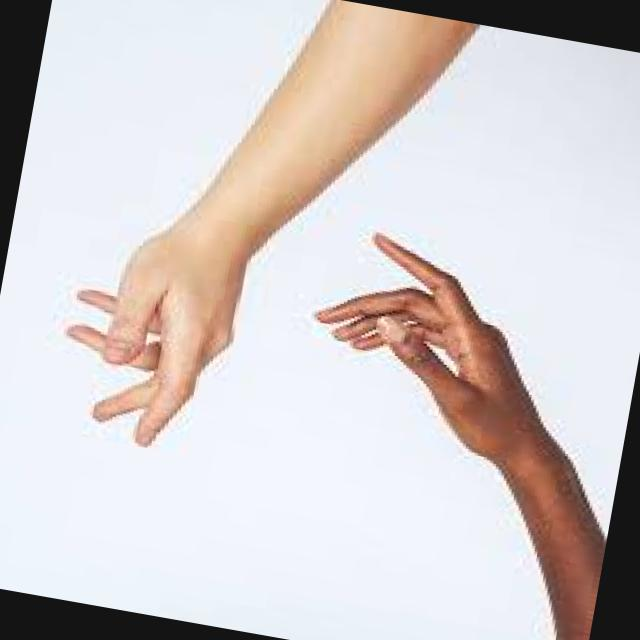Hand: (286, 215, 586, 474), (46, 212, 264, 463)
